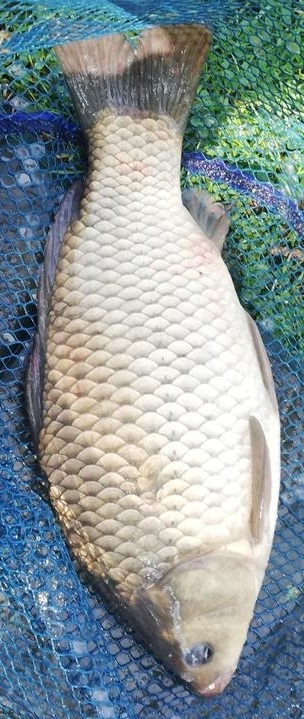Carassius carassius: (20, 20, 284, 699)
